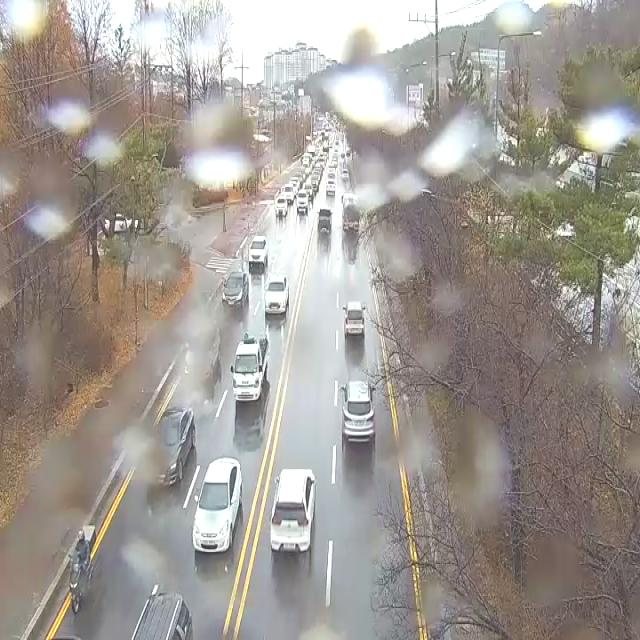Car: (192, 457, 242, 553), (146, 406, 196, 486), (270, 469, 316, 553), (131, 593, 192, 640), (341, 380, 376, 443), (185, 328, 221, 380), (222, 272, 249, 309), (265, 275, 289, 314), (104, 213, 138, 236), (343, 303, 365, 335), (249, 236, 267, 269), (276, 196, 288, 216), (296, 190, 308, 210), (284, 183, 294, 205), (303, 185, 314, 202), (309, 175, 319, 192), (325, 180, 336, 195), (291, 177, 300, 192), (51, 636, 83, 640), (289, 181, 297, 196), (328, 164, 336, 177), (342, 169, 349, 181)
Motorcycle: (65, 517, 94, 618)
Truck: (230, 332, 270, 401), (341, 194, 359, 230), (317, 208, 333, 232)
